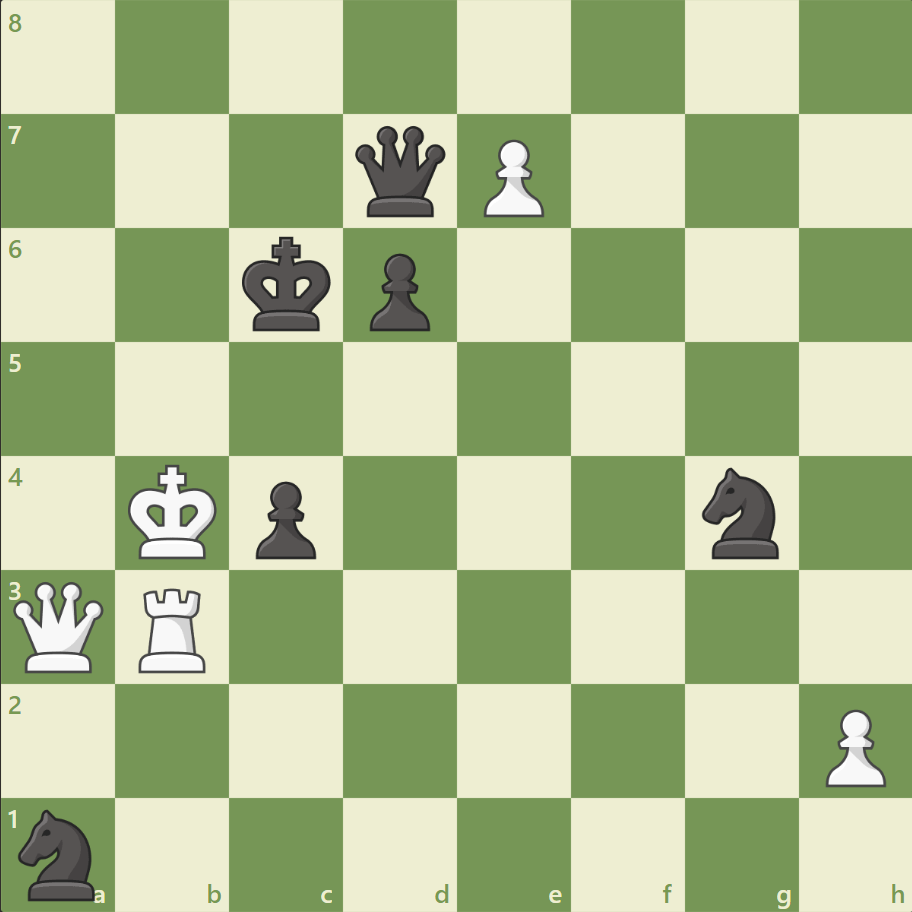K: (124, 458, 224, 566)
P: (474, 132, 549, 223), (815, 700, 889, 791)
Q: (10, 576, 109, 676)
R: (133, 579, 215, 676)
k: (238, 231, 338, 339)
n: (692, 461, 789, 564), (11, 802, 108, 904)
p: (247, 473, 322, 564), (361, 246, 435, 337)
q: (351, 122, 450, 222)
